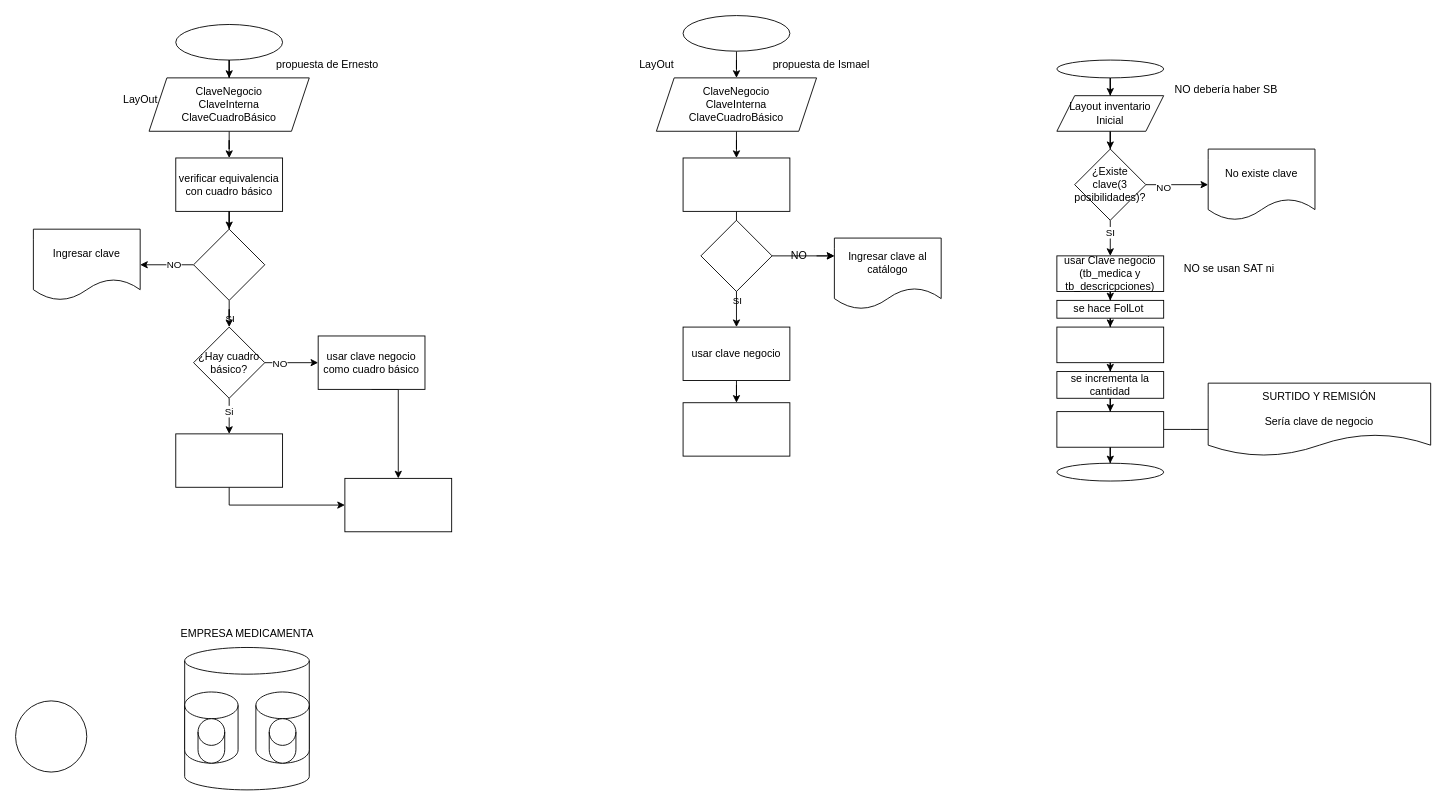
Some shapes in this 1446 by 805 pixel diagram are drawn without their labels. Here are the shapes that lost their labels. From the top down, the centre of each, then its label:
point (736, 184): verificar equivalencia
point (229, 264): ¿Está en catálogo?
point (736, 255): ¿Está en catálogo equivalencia?
point (1110, 344): se ingresa en tb_movinv
point (736, 429): realizar movimientos en sistema con clave negocio
point (1110, 429): se aumenta el folio de movimiento
point (229, 460): usar clave cuadro básico
point (398, 504): realizar movimientos en sistema con clave cuadro básico.
